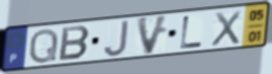B: (57, 25, 92, 63)
J: (103, 19, 131, 58)
L: (179, 14, 205, 50)
Q: (27, 27, 60, 65)
V: (135, 14, 171, 57)
X: (210, 9, 244, 49)
